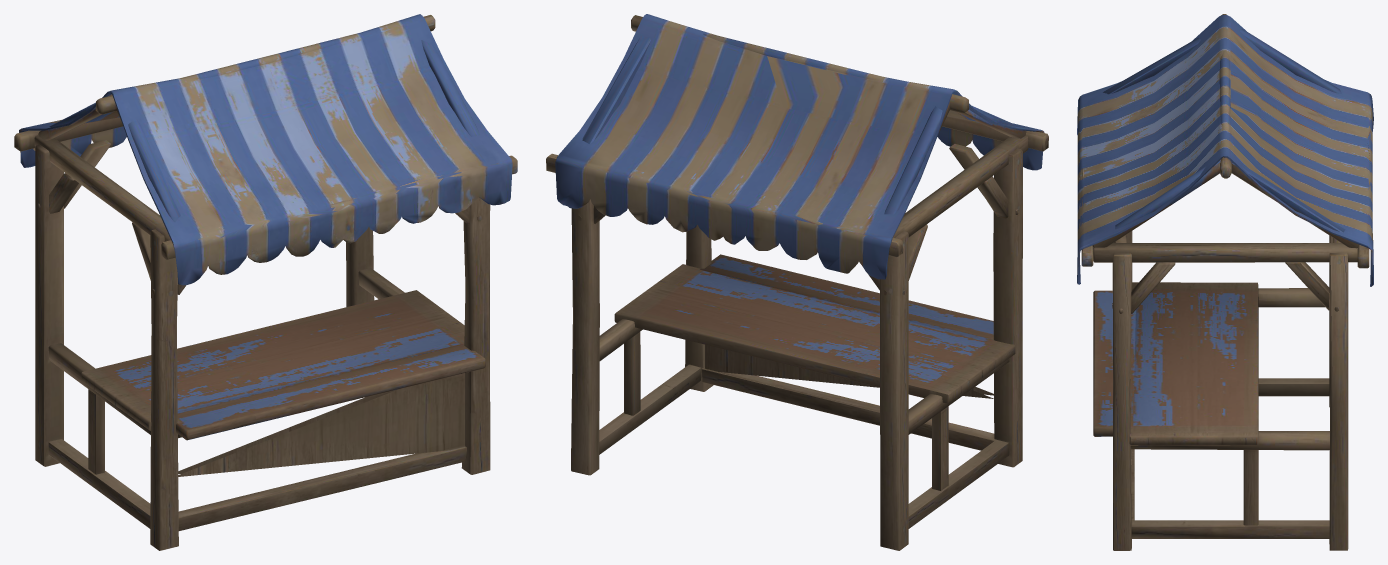
The model's file is MarketStallBlue.glb.
The picture shows the model from 3 angles, left to right: view 1: azimuth 30°, elevation 25°; view 2: azimuth 150°, elevation 25°; view 3: azimuth 270°, elevation 25°; orthographic projection. The views are drawn at different scales.
Parts seen in each view (by area): view 1: MarketStall; view 2: MarketStall; view 3: MarketStall.
Boxes of the visible parts, <box> form: MarketStall: <box>14,14,517,550</box>; MarketStall: <box>546,14,1048,550</box>; MarketStall: <box>1077,14,1373,550</box>.
Size of the model in its own units: 2.6 by 2.9 by 2.
Materials: 1 (1 with a texture image).
